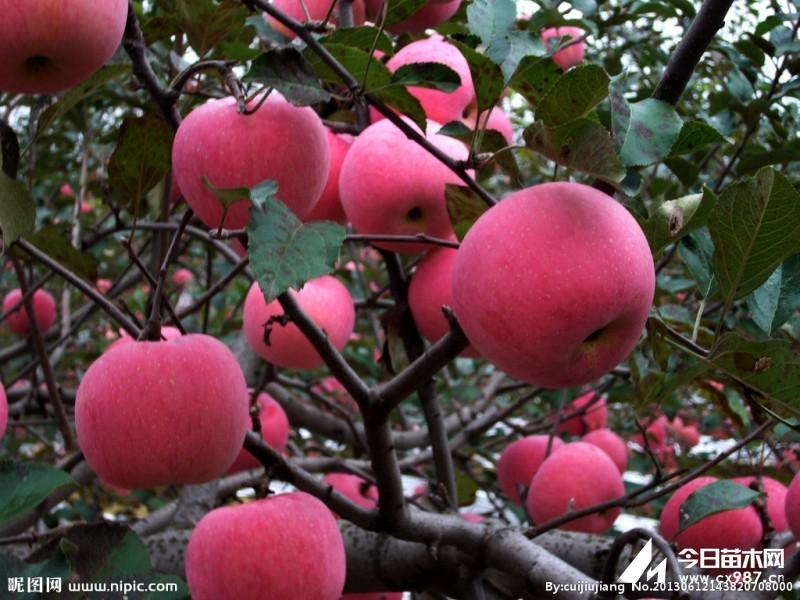apple: (456, 180, 652, 388), (73, 330, 251, 495), (169, 84, 334, 229), (182, 489, 347, 597), (338, 118, 472, 247), (1, 1, 126, 100), (521, 437, 627, 529), (266, 274, 353, 359)
